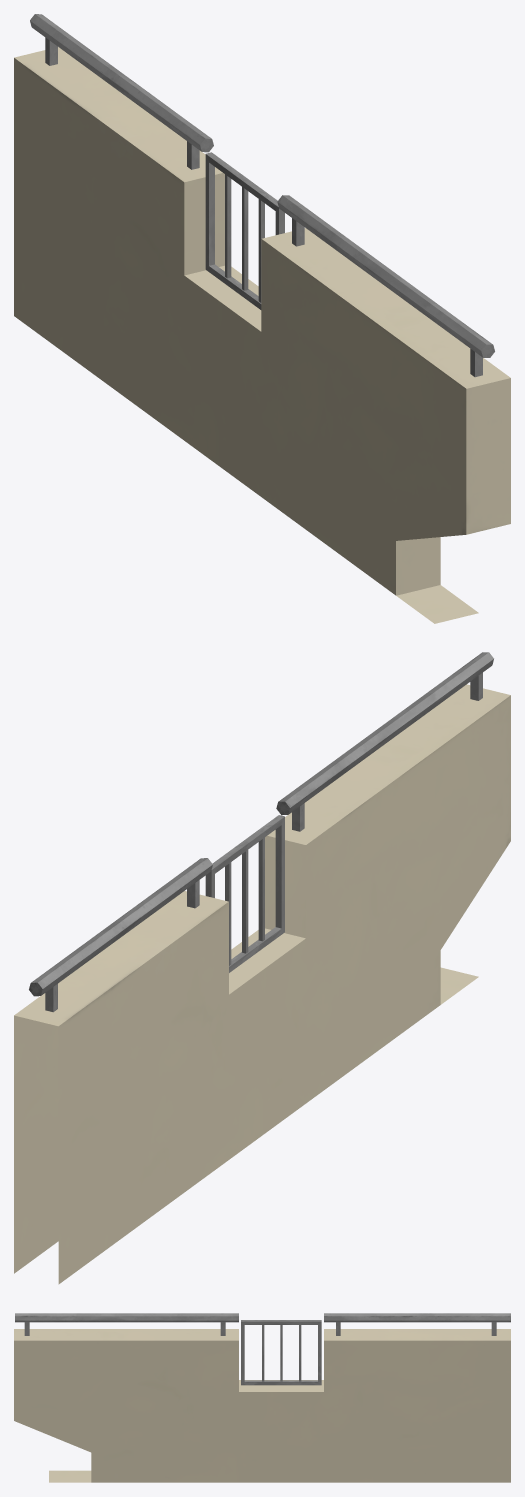
Rendered from Platform_wall.fbx.
3 views of the same model, one above another, from view 1: azimuth 30°, elevation 25°; view 2: azimuth 150°, elevation 25°; view 3: azimuth 270°, elevation 25° (orthographic). The views are drawn at different scales.
Visible parts, largest first — view 1: PlatformWall; view 2: PlatformWall; view 3: PlatformWall.
Boxes of the visible parts, left/top/right/bottom form: PlatformWall: left=14, top=14, right=510, bottom=623; PlatformWall: left=14, top=652, right=510, bottom=1284; PlatformWall: left=14, top=1313, right=510, bottom=1482.
Bounding box in the file's own units: 50 × 319 × 880.
1 material, 1 textured.
